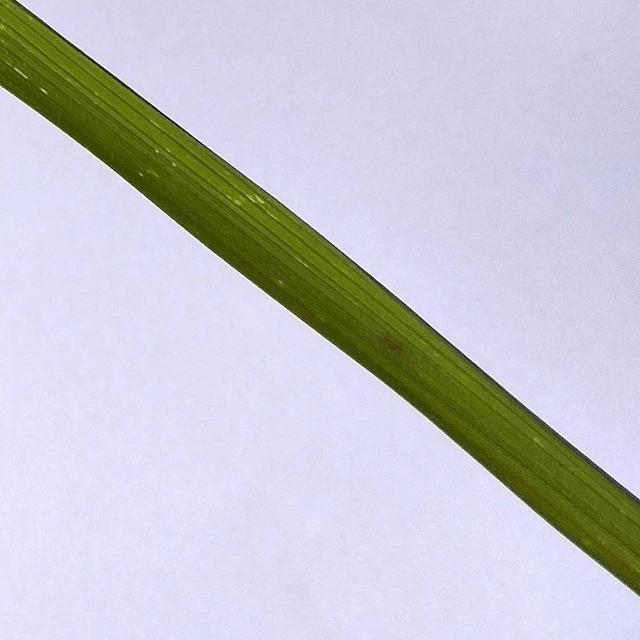brownspots: (373, 331, 421, 364)
